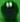black: (0, 0, 20, 22)
